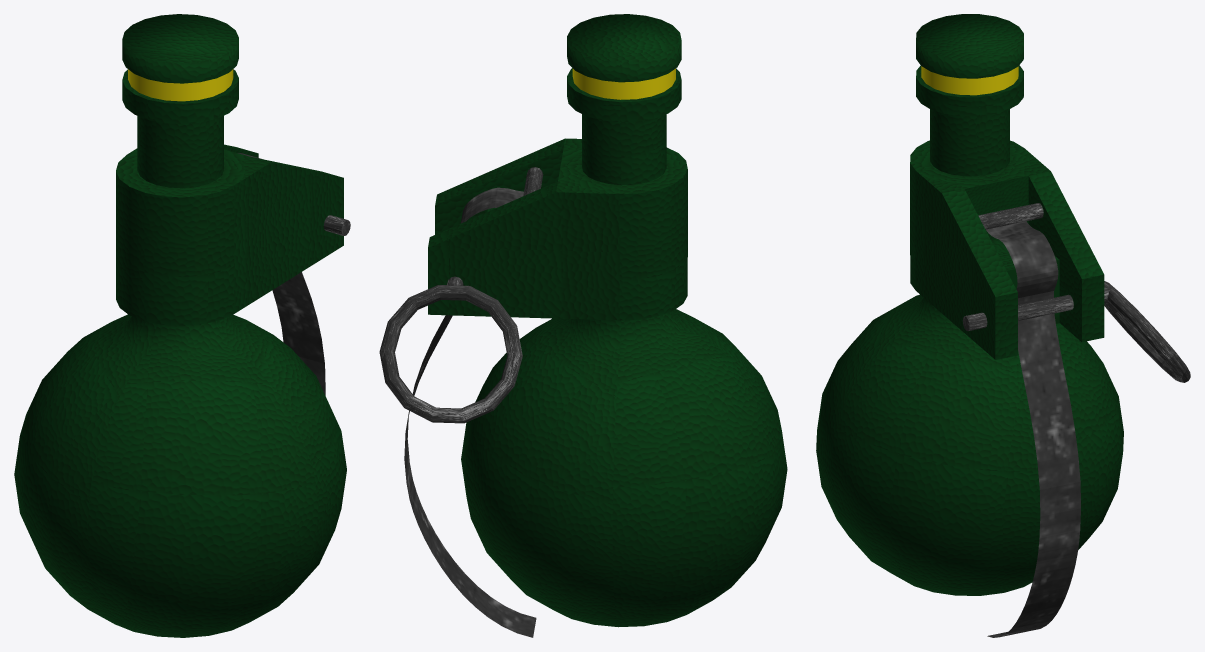
Rendered from granada1.glb.
The picture shows the model from 3 angles, left to right: view 1: azimuth 30°, elevation 25°; view 2: azimuth 150°, elevation 25°; view 3: azimuth 270°, elevation 25°; orthographic projection. The views are drawn at different scales.
Parts seen in each view (by area): view 1: Cylinder, BézierCurve; view 2: Cylinder, Torus, BézierCurve; view 3: Cylinder, BézierCurve, Torus, anilla.001, anilla.
Boxes of the visible parts, x1,y1,x2,y2 form: Cylinder: (14, 14, 346, 637); BézierCurve: (238, 153, 325, 395); Cylinder: (428, 14, 787, 627); Torus: (379, 285, 522, 423); BézierCurve: (404, 187, 536, 637); Cylinder: (816, 14, 1123, 595); BézierCurve: (986, 221, 1080, 637); Torus: (1104, 281, 1190, 382); anilla.001: (962, 286, 1111, 331); anilla: (978, 203, 1043, 229).
Bounding box in the file's own units: 2.26 × 3.99 × 2.41.
3 materials, 2 textured.
